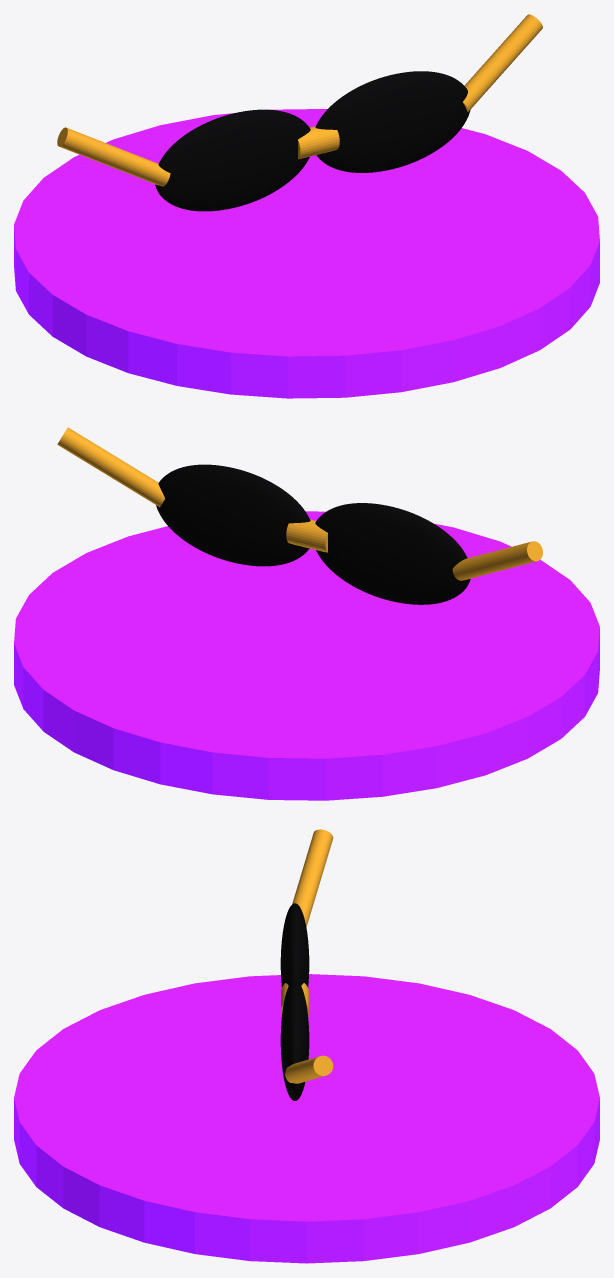
File: modelling_sunglasses.dae
The picture shows the model from 3 angles, top to bottom: view 1: azimuth 30°, elevation 25°; view 2: azimuth 150°, elevation 25°; view 3: azimuth 270°, elevation 25°; orthographic projection.
Visible parts, largest first — view 1: 05_16_Popular_Modelling_Sunglasses_ROOT_base, 05_16_Popular_Modelling_Sunglasses_part_01, 05_16_Popular_Modelling_Sunglasses_part_02, 05_16_Popular_Modelling_Sunglasses_part_04, 05_16_Popular_Modelling_Sunglasses_part_05, 05_16_Popular_Modelling_Sunglasses_part_03; view 2: 05_16_Popular_Modelling_Sunglasses_ROOT_base, 05_16_Popular_Modelling_Sunglasses_part_01, 05_16_Popular_Modelling_Sunglasses_part_02, 05_16_Popular_Modelling_Sunglasses_part_05, 05_16_Popular_Modelling_Sunglasses_part_04, 05_16_Popular_Modelling_Sunglasses_part_03; view 3: 05_16_Popular_Modelling_Sunglasses_ROOT_base, 05_16_Popular_Modelling_Sunglasses_part_02, 05_16_Popular_Modelling_Sunglasses_part_01, 05_16_Popular_Modelling_Sunglasses_part_04, 05_16_Popular_Modelling_Sunglasses_part_05.
Boxes of the visible parts, x1,y1,x2,y2 form: 05_16_Popular_Modelling_Sunglasses_ROOT_base: (14,109,599,398); 05_16_Popular_Modelling_Sunglasses_part_01: (155,109,310,211); 05_16_Popular_Modelling_Sunglasses_part_02: (315,71,470,172); 05_16_Popular_Modelling_Sunglasses_part_04: (57,127,170,186); 05_16_Popular_Modelling_Sunglasses_part_05: (463,14,542,111); 05_16_Popular_Modelling_Sunglasses_part_03: (298,126,339,159); 05_16_Popular_Modelling_Sunglasses_ROOT_base: (14,511,599,800); 05_16_Popular_Modelling_Sunglasses_part_01: (315,503,470,604); 05_16_Popular_Modelling_Sunglasses_part_02: (156,464,310,566); 05_16_Popular_Modelling_Sunglasses_part_05: (57,427,164,506); 05_16_Popular_Modelling_Sunglasses_part_04: (452,541,542,580); 05_16_Popular_Modelling_Sunglasses_part_03: (286,519,327,552); 05_16_Popular_Modelling_Sunglasses_ROOT_base: (14,974,599,1263); 05_16_Popular_Modelling_Sunglasses_part_02: (280,980,309,1100); 05_16_Popular_Modelling_Sunglasses_part_01: (280,903,309,987); 05_16_Popular_Modelling_Sunglasses_part_04: (292,829,333,927); 05_16_Popular_Modelling_Sunglasses_part_05: (285,1055,333,1083).
Size of the model in its own units: 0.76 by 0.282 by 0.76.
